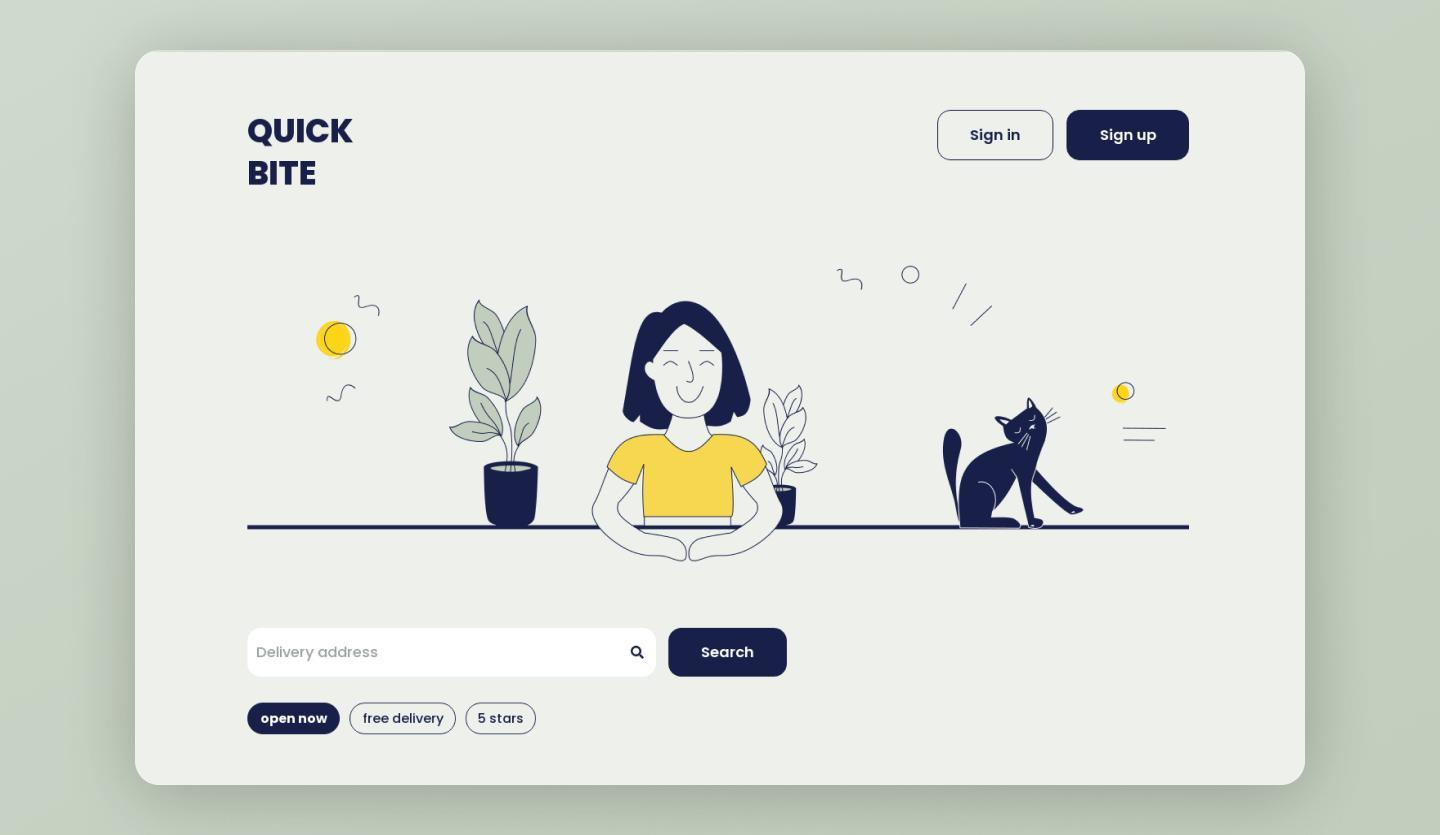button: (1067, 110, 1191, 161), (936, 109, 1055, 162), (667, 627, 789, 678), (349, 703, 457, 736), (247, 703, 341, 736), (466, 702, 536, 737)
input: (243, 624, 662, 682)
